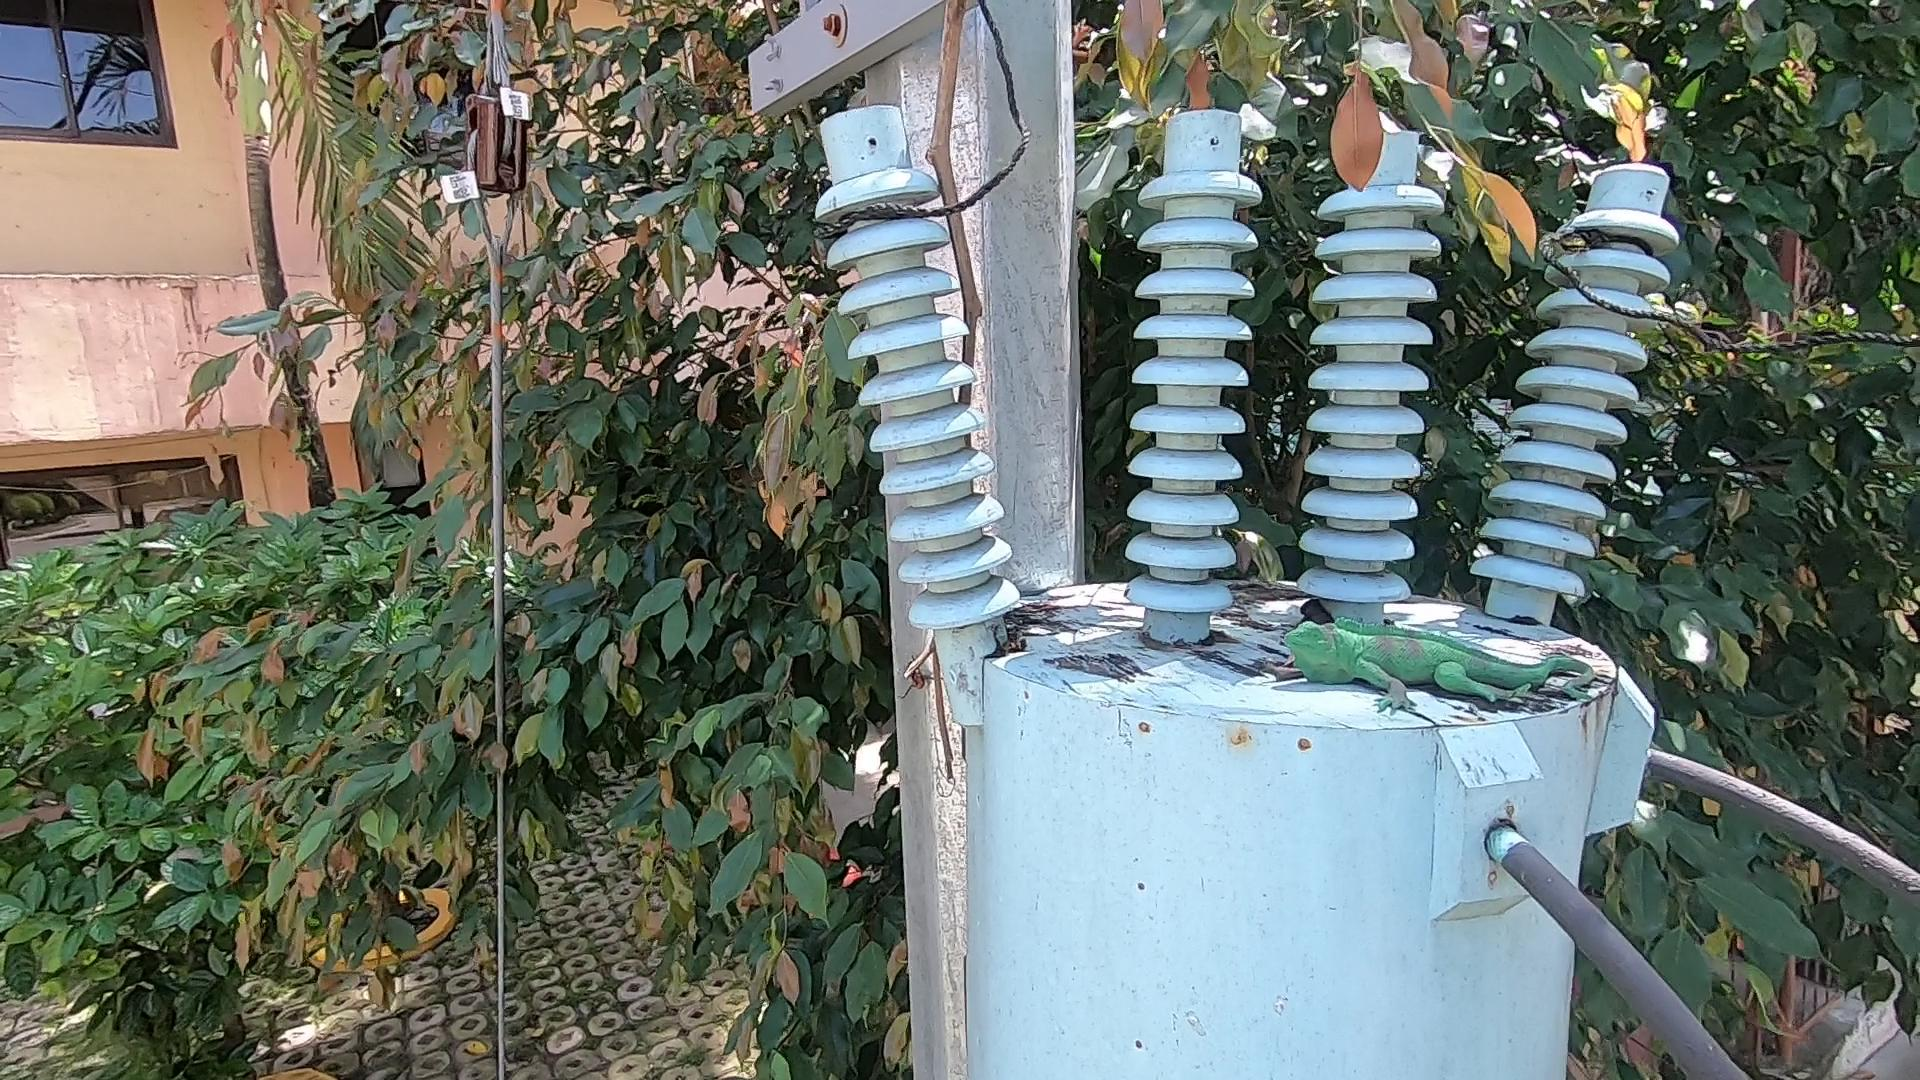branch with leaves: (1313, 53, 1602, 307)
leaf: (988, 628, 1047, 678), (1280, 596, 1345, 640)
tree branch: (872, 3, 986, 782)
